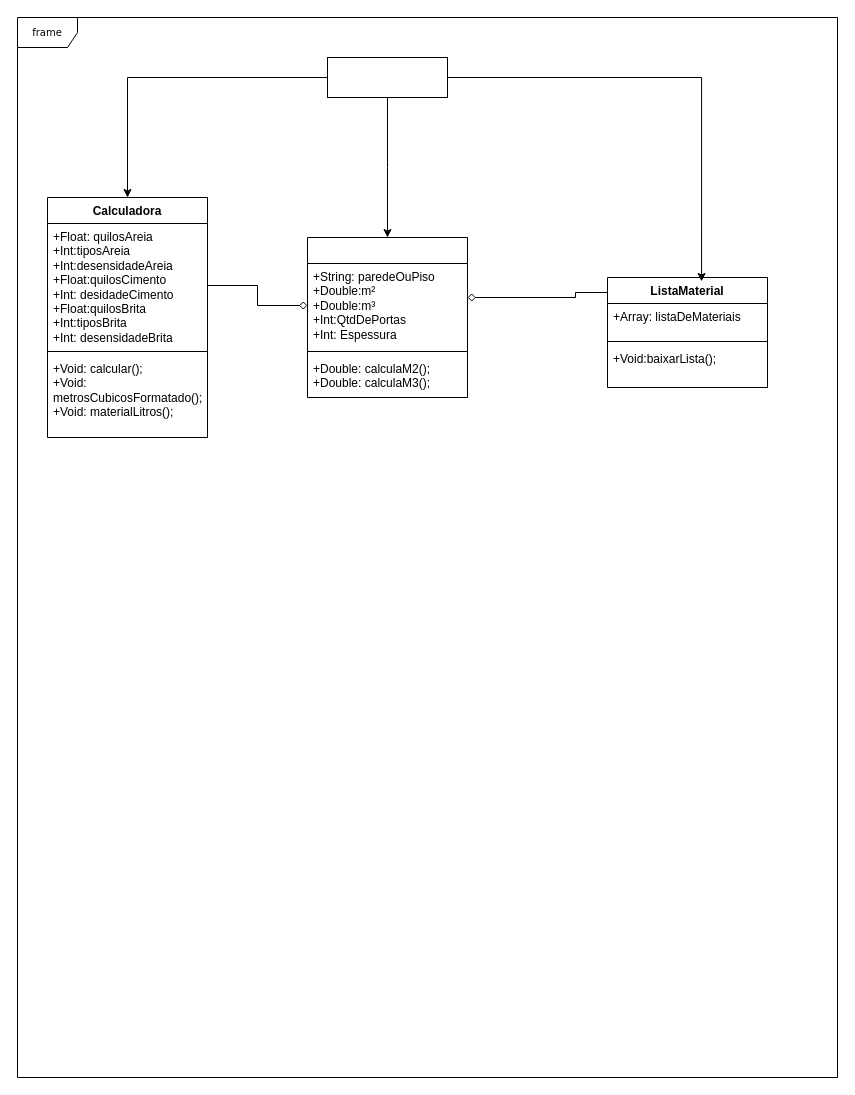
The diagram is 855 pixels wide and 1095 high, and some of its shapes have lost their labels. Here are the shapes that lost their labels. From the top down, the box of each, then its label:
(326, 56, 448, 98): «interface» NavBar
(306, 236, 468, 398): OQueConstruir
